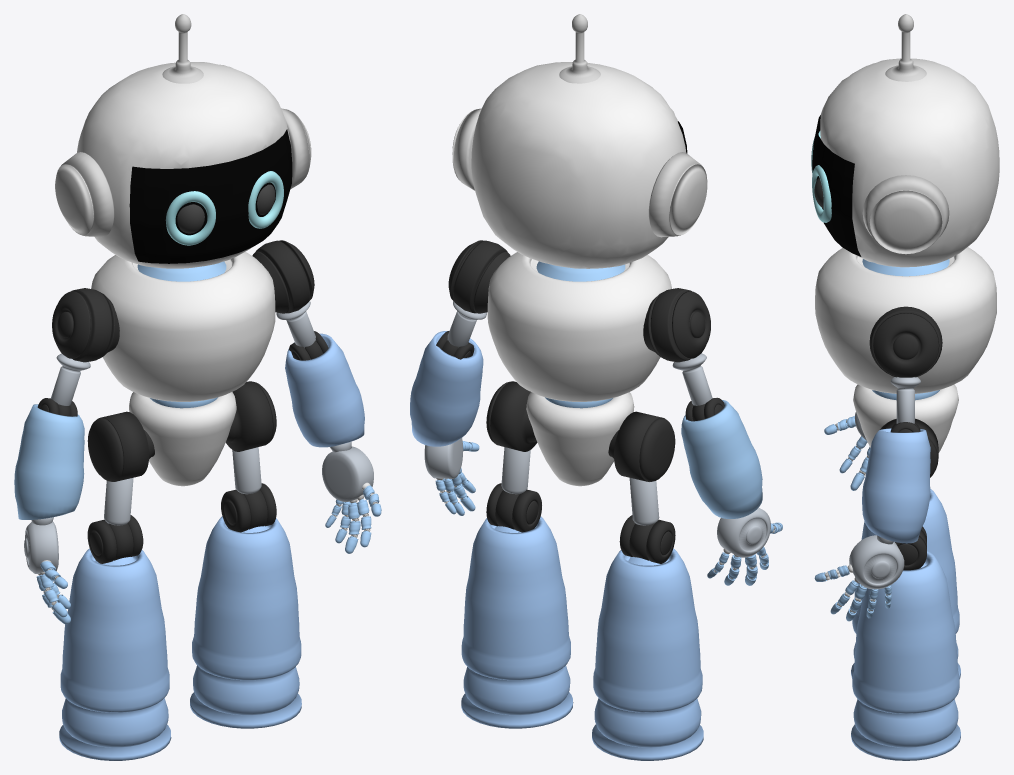
Rendered from Robot.fbx.
3 views of the same model, side by side, from view 1: azimuth 30°, elevation 25°; view 2: azimuth 150°, elevation 25°; view 3: azimuth 270°, elevation 25° (orthographic).
Parts seen in each view (by area): view 1: boy tana, Cylinder.015, Cylinder.016, head.001, head, HAnD, dumgaza, HAnD.001, Cylinder.001, ear.001, oyoq buradigan, Cylinder.005 (+15 smaller); view 2: head.001, Cylinder.015, boy tana, Cylinder.016, HAnD, dumgaza, HAnD.001, Cylinder.001, ear.001, oyoq buradigan, Cylinder.005, oyoq buradigan.001 (+11 smaller); view 3: head.001, Cylinder.016, boy tana, HAnD.001, ear, Cylinder.005, dumgaza, head, Cylinder.015, Cylinder.002, antenna, qol turba.001 (+4 smaller).
Boxes of the visible parts, bbox=[...] form: boy tana: bbox=[91, 251, 275, 401]; Cylinder.015: bbox=[59, 548, 171, 760]; Cylinder.016: bbox=[190, 516, 301, 728]; head.001: bbox=[77, 62, 291, 268]; head: bbox=[129, 129, 292, 263]; HAnD: bbox=[14, 404, 84, 519]; dumgaza: bbox=[129, 392, 236, 486]; HAnD.001: bbox=[285, 333, 364, 447]; Cylinder.001: bbox=[52, 288, 119, 362]; ear.001: bbox=[55, 152, 114, 237]; oyoq buradigan: bbox=[87, 411, 154, 481]; Cylinder.005: bbox=[252, 240, 314, 313]; head.001: bbox=[471, 62, 686, 268]; Cylinder.015: bbox=[592, 548, 703, 760]; boy tana: bbox=[487, 252, 671, 401]; Cylinder.016: bbox=[461, 516, 573, 728]; HAnD: bbox=[681, 400, 762, 518]; dumgaza: bbox=[526, 392, 634, 486]; HAnD.001: bbox=[410, 331, 483, 446]; Cylinder.001: bbox=[643, 288, 710, 362]; ear.001: bbox=[648, 152, 707, 237]; oyoq buradigan: bbox=[608, 411, 675, 481]; Cylinder.005: bbox=[448, 240, 510, 313]; oyoq buradigan.001: bbox=[486, 381, 537, 451]; head.001: bbox=[820, 58, 999, 267]; Cylinder.016: bbox=[851, 551, 960, 760]; boy tana: bbox=[815, 247, 996, 393]; HAnD.001: bbox=[862, 428, 930, 543]; ear: bbox=[862, 175, 949, 254]; Cylinder.005: bbox=[869, 306, 942, 377]; dumgaza: bbox=[853, 384, 958, 452]; head: bbox=[812, 115, 861, 256]; Cylinder.015: bbox=[851, 489, 960, 678]; Cylinder.002: bbox=[849, 535, 904, 589]; antenna: bbox=[885, 14, 926, 81]; qol turba.001: bbox=[890, 377, 920, 423].
Bounding box in the file's own units: 237 × 467 × 115.
